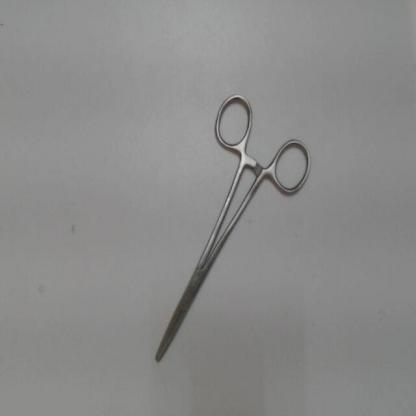Mayo Needle Holder: (146, 85, 321, 376)
